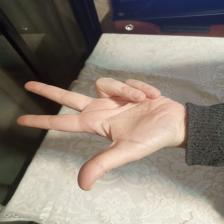three: (16, 77, 182, 189)
